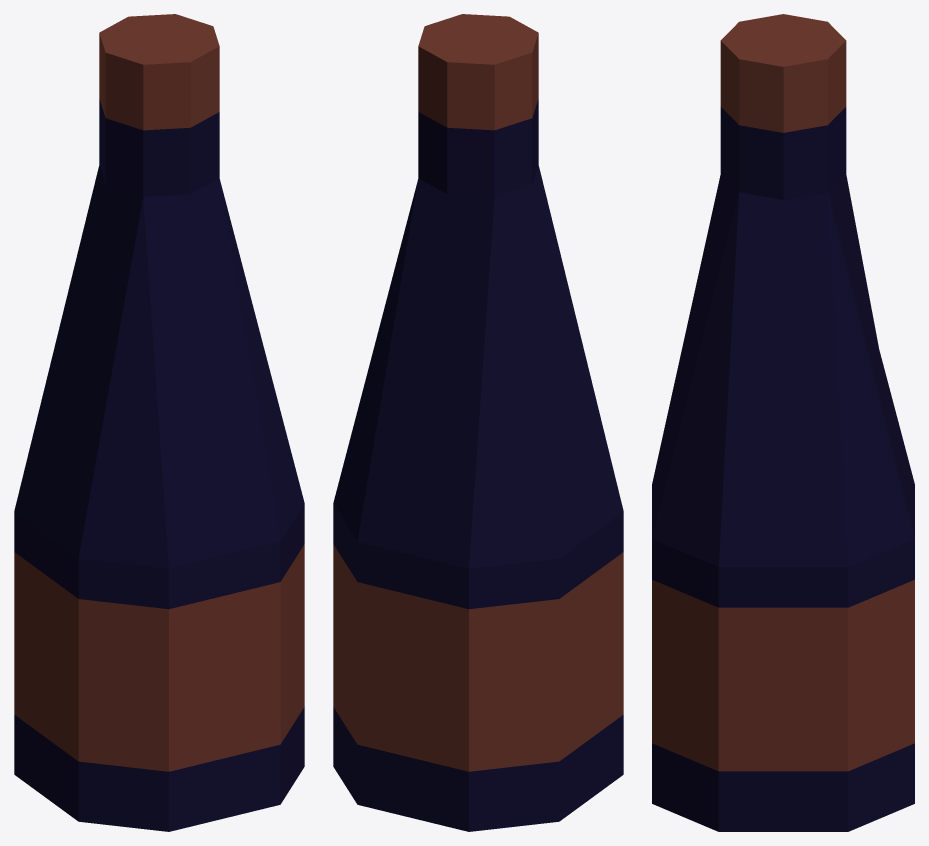
Rendered from джек бухло (жижка синяя).fbx.
The picture shows the model from 3 angles, left to right: view 1: azimuth 30°, elevation 25°; view 2: azimuth 150°, elevation 25°; view 3: azimuth 270°, elevation 25°; orthographic projection.
Visible parts, largest first — view 1: Куб; view 2: Куб; view 3: Куб.
Part boxes in pixels (x1=…): Куб: x1=14, y1=14, x2=304, y2=831; Куб: x1=333, y1=14, x2=623, y2=831; Куб: x1=652, y1=14, x2=914, y2=831.
Size of the model in its own units: 14.76 by 45.62 by 14.76.
